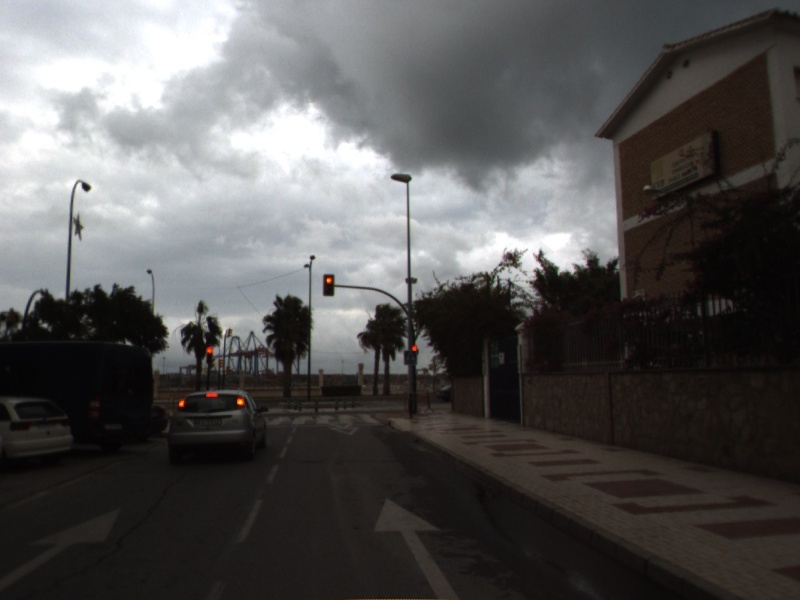STRAIGHT: (1, 502, 126, 589), (371, 494, 466, 599)
